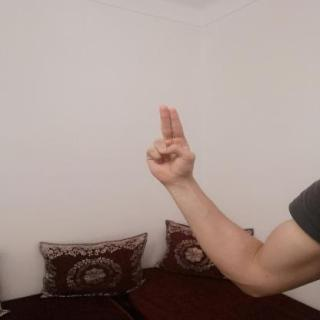TA: (138, 100, 204, 188)
